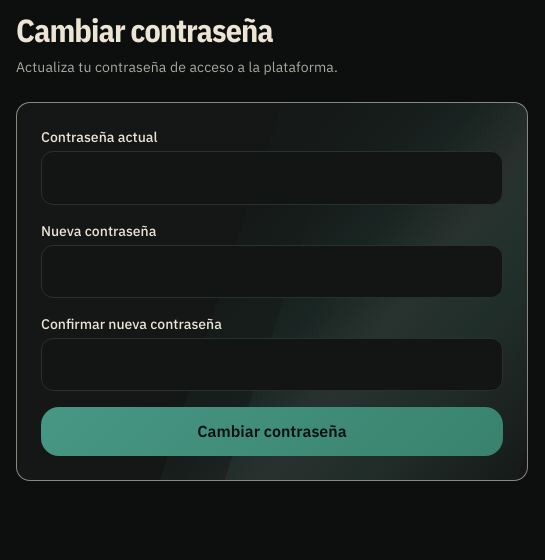
Test case: ChangePasswordPage › shows error when API returns error
Type "wrong" into the password field labelled "Contraseña actual" at (272,178), box 41,152 -> 503,205
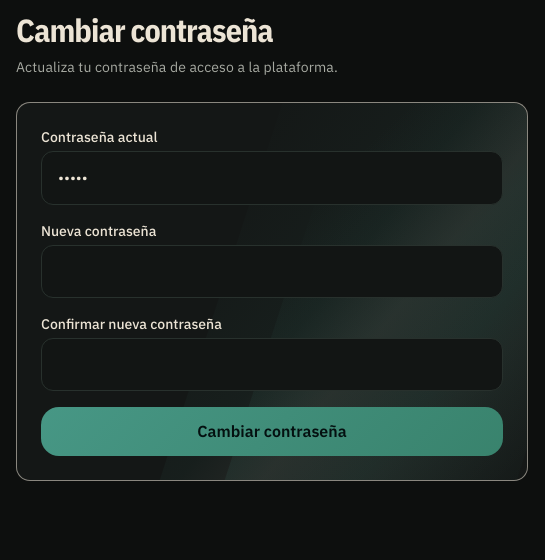
Type "newpass123" into the password field labelled "Nueva contraseña" at (272,271), box 41,245 -> 503,298
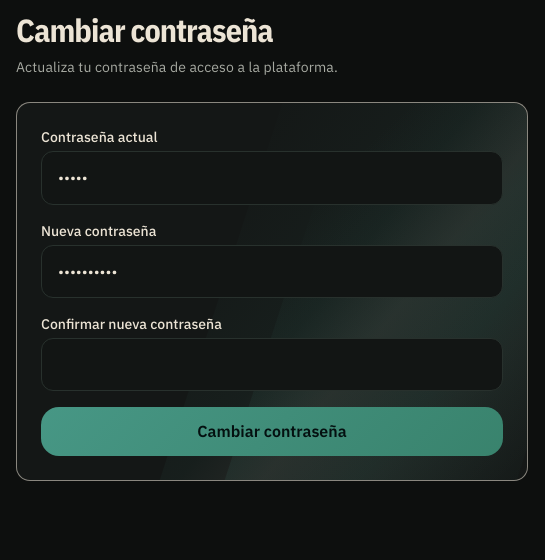
Type "newpass123" into the password field labelled "Confirmar nueva contraseña" at (272,365), box 41,338 -> 503,391
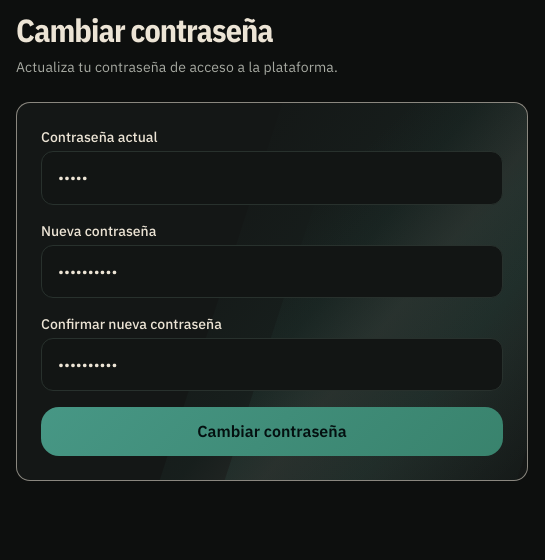
Click the button "Cambiar contraseña" at (272,432), box 41,407 -> 503,456
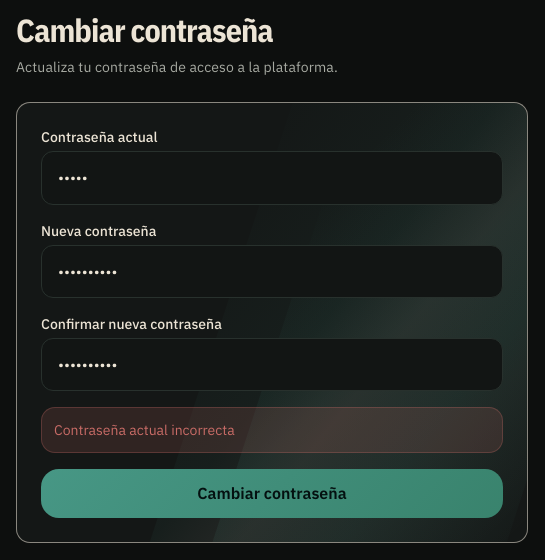
Now the text "Contraseña actual incorrecta" is shown, box 41,407 -> 503,453
